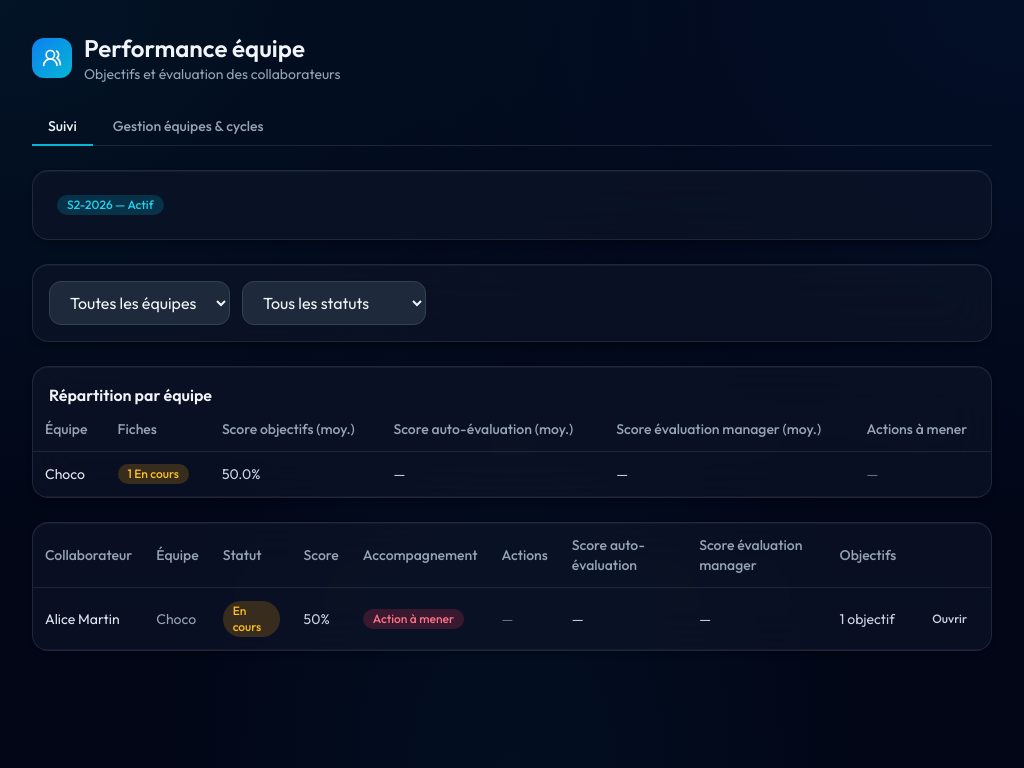
Test: TeamPerformancePage › affiche une erreur si le chargement du détail échoue
This screenshot has width=1024, height=768.
Expected: the text "Alice Martin" is shown, [33,588,144,650]
Click the button "Ouvrir" at [950, 618], box [920,604,979,632]
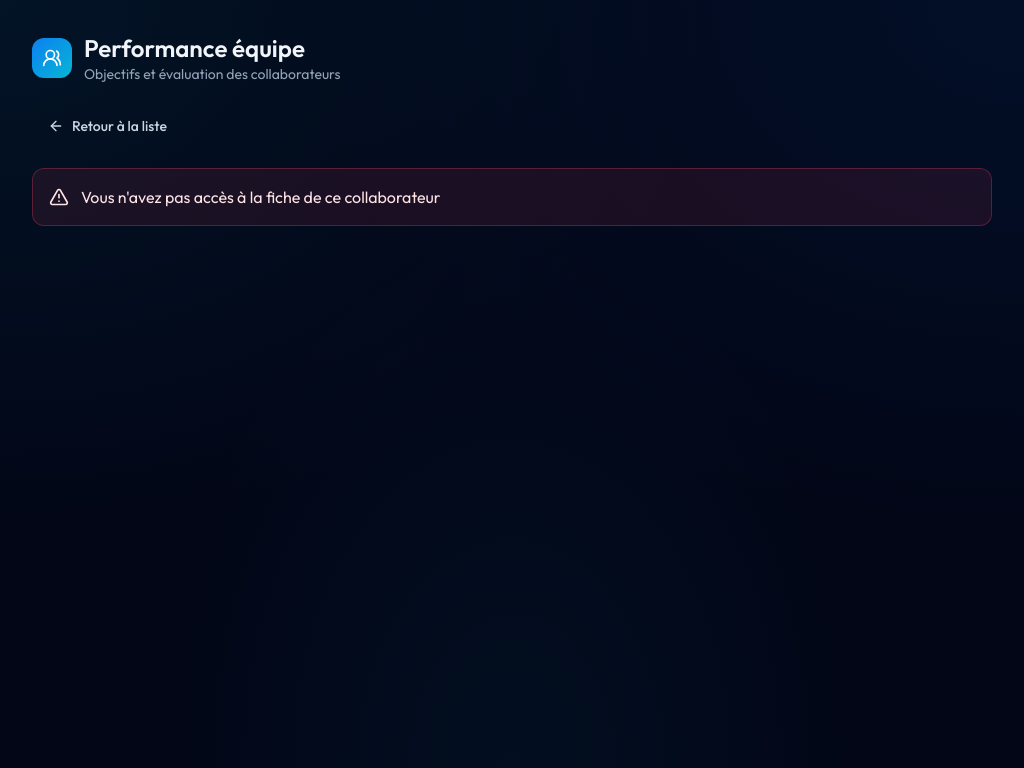
Now the text "Vous n'avez pas accès à la fiche de ce collaborateur" is shown, box [81,185,441,209]
